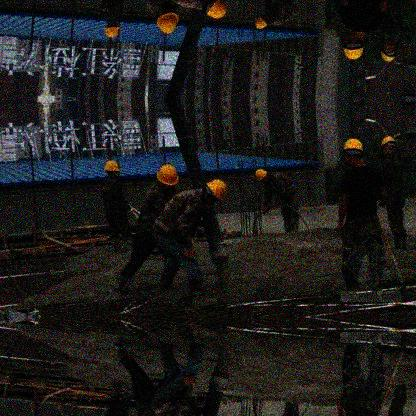helmet: (155, 1, 180, 33), (342, 138, 364, 168), (199, 179, 227, 202), (156, 165, 180, 191), (344, 30, 364, 61), (201, 1, 231, 20), (381, 38, 398, 63), (380, 135, 397, 160), (103, 159, 120, 179), (102, 21, 120, 39), (254, 166, 270, 183), (254, 15, 270, 31)
